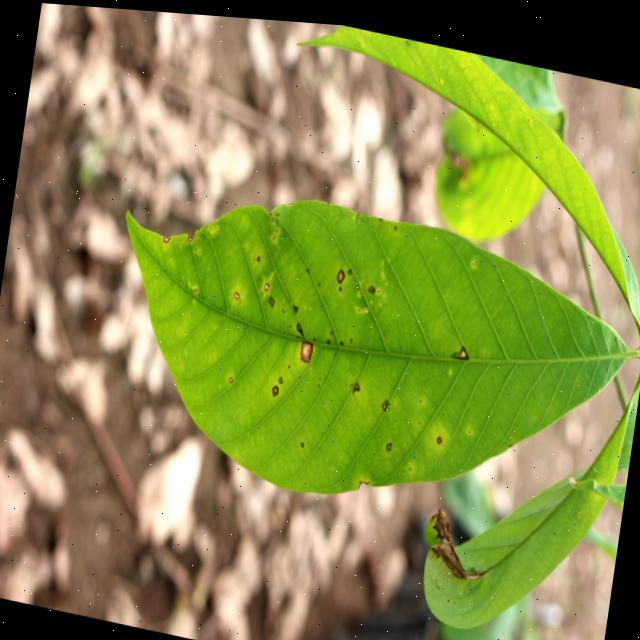Colletotrichum: (300, 335, 314, 359), (336, 264, 346, 280), (271, 380, 279, 394), (268, 292, 276, 305), (460, 342, 468, 352), (368, 279, 376, 288), (354, 377, 361, 387), (292, 300, 298, 310), (386, 436, 392, 446), (382, 397, 388, 406), (437, 429, 442, 439), (264, 279, 269, 288), (296, 319, 302, 326), (234, 289, 240, 296), (228, 374, 233, 380), (348, 264, 352, 271), (278, 373, 282, 379)
Leaf-Blight: (424, 501, 489, 576)
